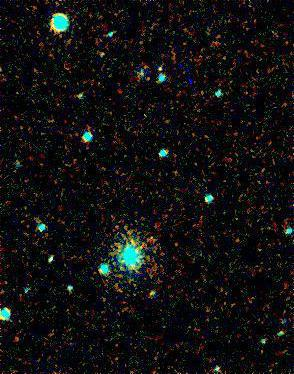star: (144, 55, 174, 85)
